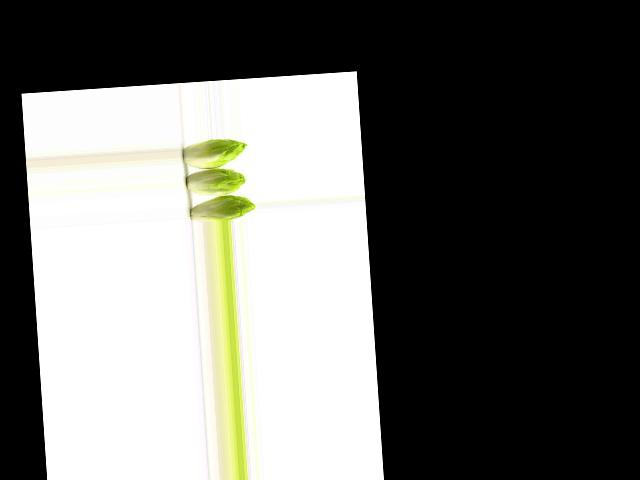lettuce: (179, 136, 248, 169)
